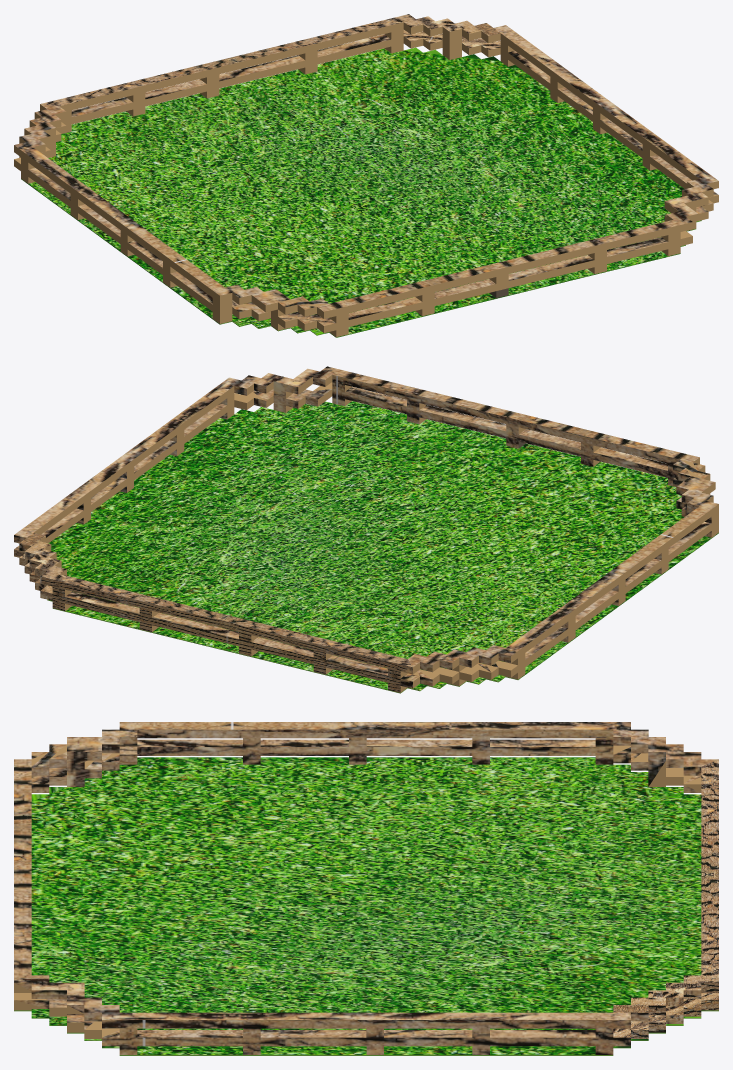
Rendered from isla.obj.
3 renders of one model, top to bottom at view 1: azimuth 30°, elevation 25°; view 2: azimuth 150°, elevation 25°; view 3: azimuth 270°, elevation 25°, orthographic. The views are drawn at different scales.
Visible parts, largest first — view 1: isla.003, cercaIsla.001; view 2: isla.003, cercaIsla.001; view 3: isla.003, cercaIsla.001.
Part boxes in pixels (<box>): isla.003: <box>21,47,701,337</box>; cercaIsla.001: <box>14,14,718,337</box>; isla.003: <box>47,401,718,693</box>; cercaIsla.001: <box>14,366,718,692</box>; isla.003: <box>14,757,718,1055</box>; cercaIsla.001: <box>14,722,718,1054</box>.
Size of the model in its own units: 40 by 2.25 by 40.
